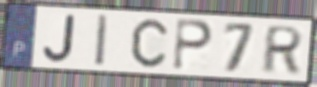7: (222, 21, 258, 74)
C: (130, 17, 170, 69)
I: (94, 13, 110, 69)
J: (41, 13, 78, 64)
P: (170, 17, 215, 72)
R: (258, 24, 305, 75)
